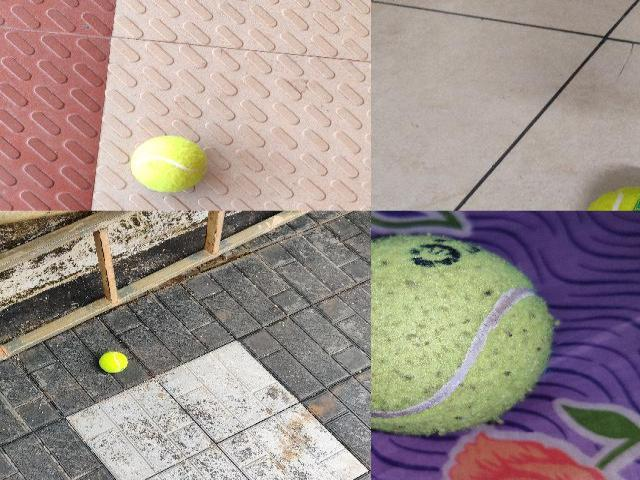tennis-ball: (371, 234, 554, 436), (130, 136, 208, 192), (588, 183, 640, 208), (99, 351, 128, 373)
